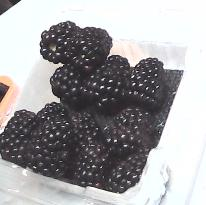berry: (26, 115, 71, 177), (82, 53, 130, 111), (107, 107, 157, 157), (120, 57, 168, 108), (49, 58, 91, 109), (0, 109, 37, 166), (103, 147, 149, 192), (62, 27, 111, 69), (40, 20, 84, 63), (72, 140, 110, 188), (70, 110, 107, 154), (36, 102, 67, 120)
